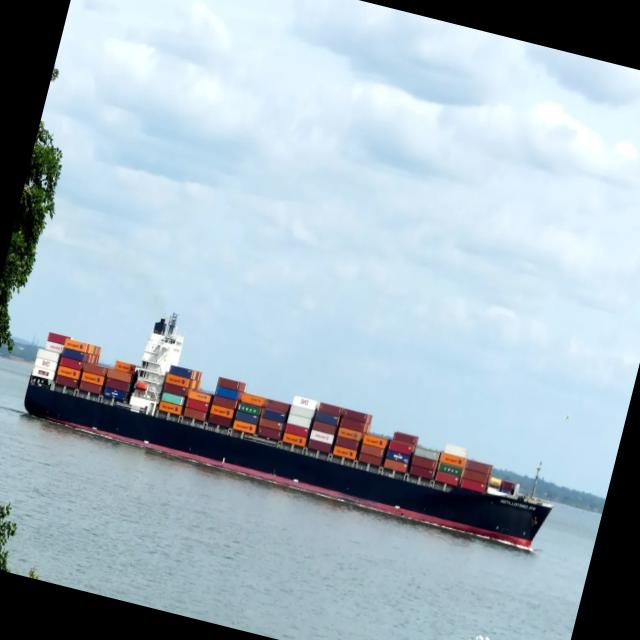Cargo: (24, 313, 552, 548)
